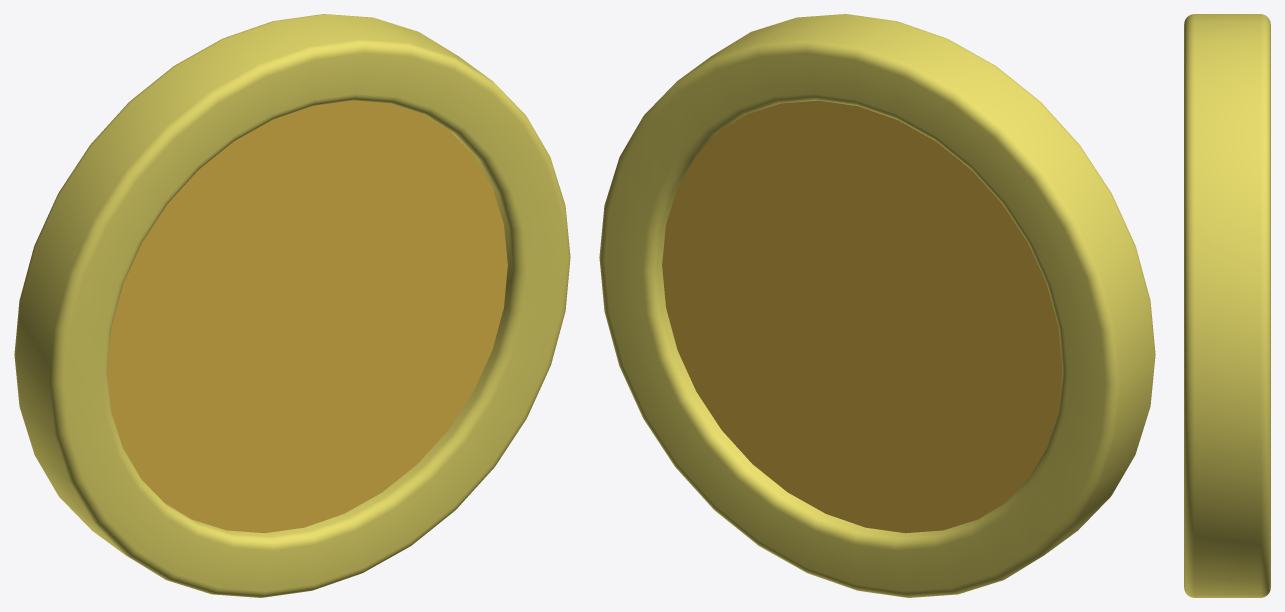
The model's file is Coin.fbx.
3 renders of one model, left to right at view 1: azimuth 30°, elevation 25°; view 2: azimuth 150°, elevation 25°; view 3: azimuth 270°, elevation 25°, orthographic. The views are drawn at different scales.
Parts seen in each view (by area): view 1: Cylinder; view 2: Cylinder; view 3: Cylinder.
Boxes of the visible parts, box(x1,y1,x2,y2) form: Cylinder: box(14, 14, 570, 597); Cylinder: box(599, 14, 1155, 597); Cylinder: box(1184, 14, 1270, 597).
Size of the model in its own units: 119 by 119 by 17.64.
